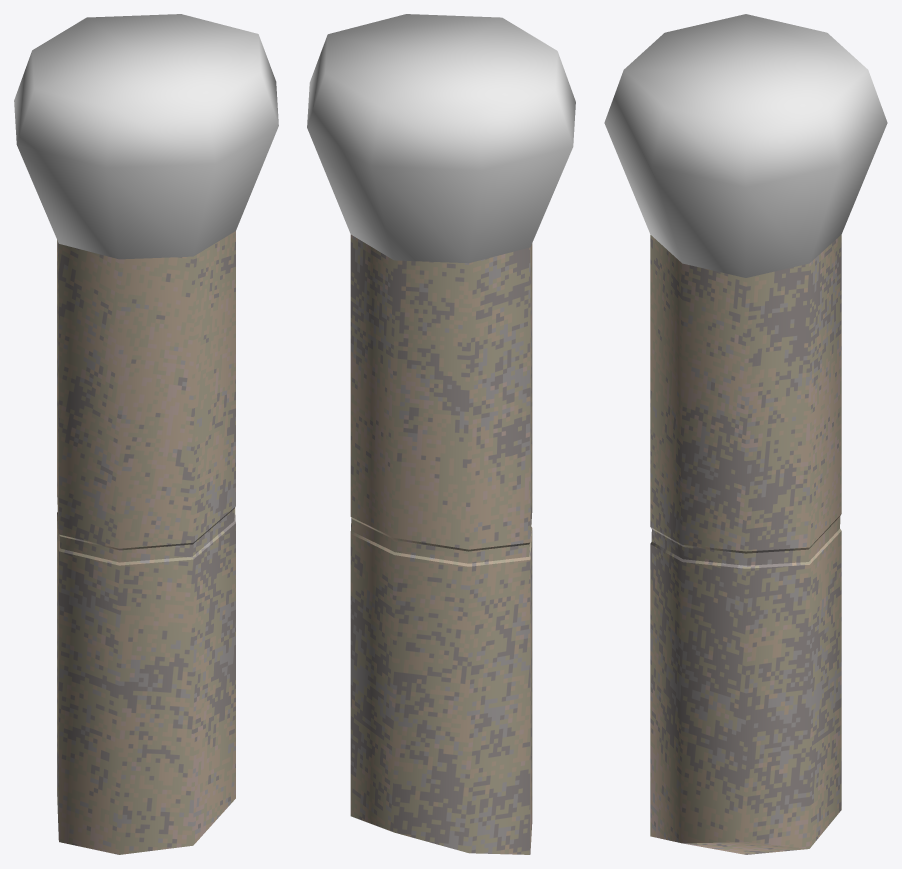
The model's file is BrokenPillar_Top.fbx.
3 views of the same model, side by side, from view 1: azimuth 30°, elevation 25°; view 2: azimuth 150°, elevation 25°; view 3: azimuth 270°, elevation 25° (orthographic). The views are drawn at different scales.
Parts seen in each view (by area): view 1: RoundPillar.003; view 2: RoundPillar.003; view 3: RoundPillar.003.
Part boxes in pixels (x1,y1,x2,y2): RoundPillar.003: (14, 14, 278, 854); RoundPillar.003: (307, 14, 575, 854); RoundPillar.003: (604, 14, 887, 854).
Bounding box in the file's own units: 81.54 × 231 × 75.44.
